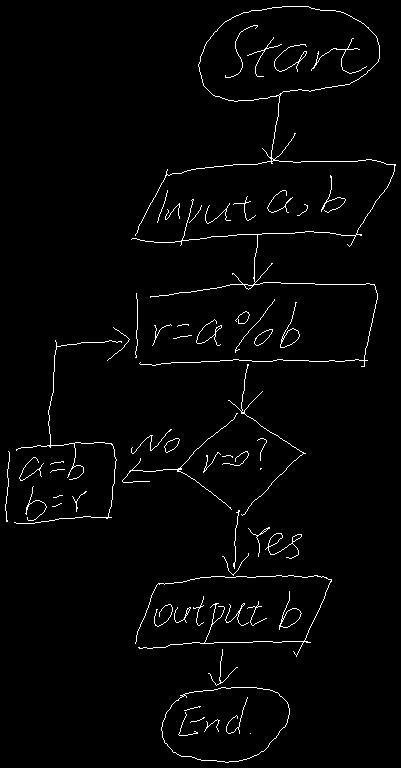arrow: (48, 327, 129, 447), (262, 93, 295, 163), (232, 234, 272, 289), (222, 510, 248, 575), (228, 364, 262, 413), (122, 458, 181, 482), (208, 649, 237, 685)
data: (131, 159, 395, 246), (135, 575, 331, 656)
decision: (177, 411, 305, 515)
process: (135, 282, 377, 366), (5, 442, 116, 523)
terminator: (198, 6, 379, 101), (161, 687, 289, 762)
text: (157, 175, 345, 245), (152, 299, 299, 352), (154, 591, 301, 642), (225, 25, 366, 77), (19, 444, 86, 520), (178, 697, 250, 735), (203, 438, 266, 472), (248, 527, 301, 558), (131, 429, 179, 453)
